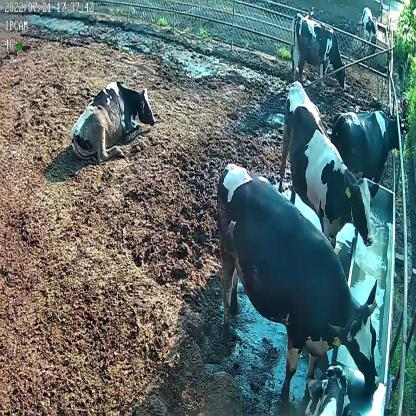cow: (217, 159, 381, 395), (278, 82, 379, 254), (70, 76, 155, 163), (330, 106, 408, 182), (289, 12, 348, 90), (362, 6, 378, 47)
